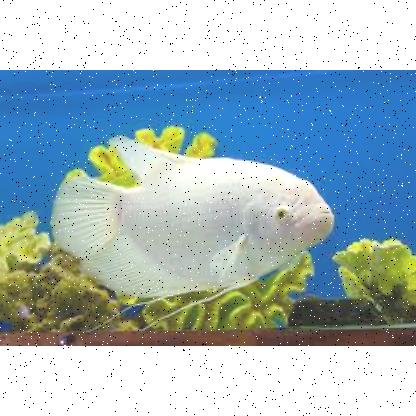gurame: (58, 142, 336, 292)
